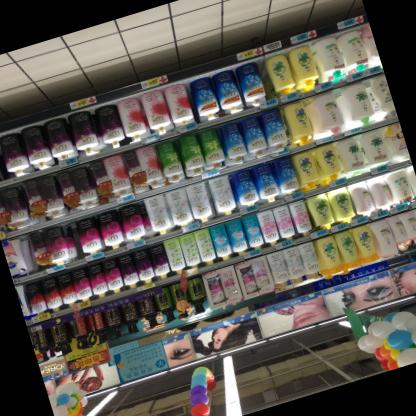empty_space: (0, 134, 10, 183)
